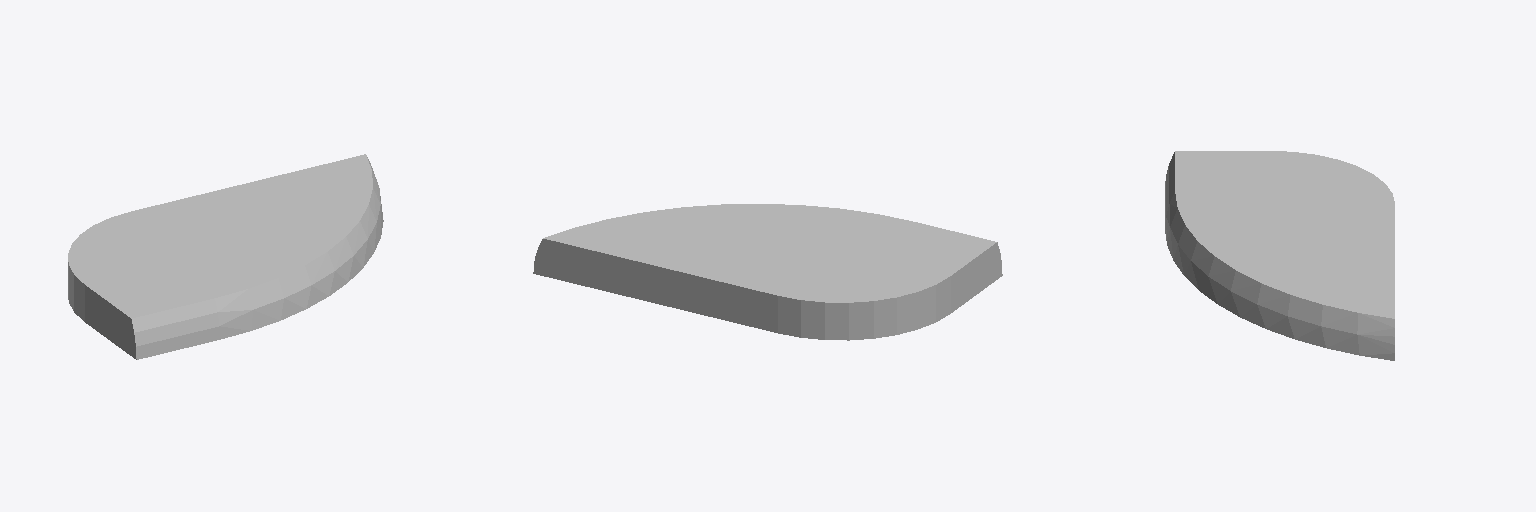
Rendered from Shoulder-Right-Middle.obj.
The picture shows the model from 3 angles: view 1: azimuth 30°, elevation 25°; view 2: azimuth 150°, elevation 25°; view 3: azimuth 270°, elevation 25°; orthographic projection.
Parts seen in each view (by area): view 1: Shoulder-Right-Middle; view 2: Shoulder-Right-Middle; view 3: Shoulder-Right-Middle.
Boxes of the visible parts, x1,y1,x2,y2 form: Shoulder-Right-Middle: [68, 154, 383, 359]; Shoulder-Right-Middle: [533, 204, 1002, 340]; Shoulder-Right-Middle: [1165, 151, 1394, 360].
Size of the model in its own units: 27.52 by 2.8 by 15.5.